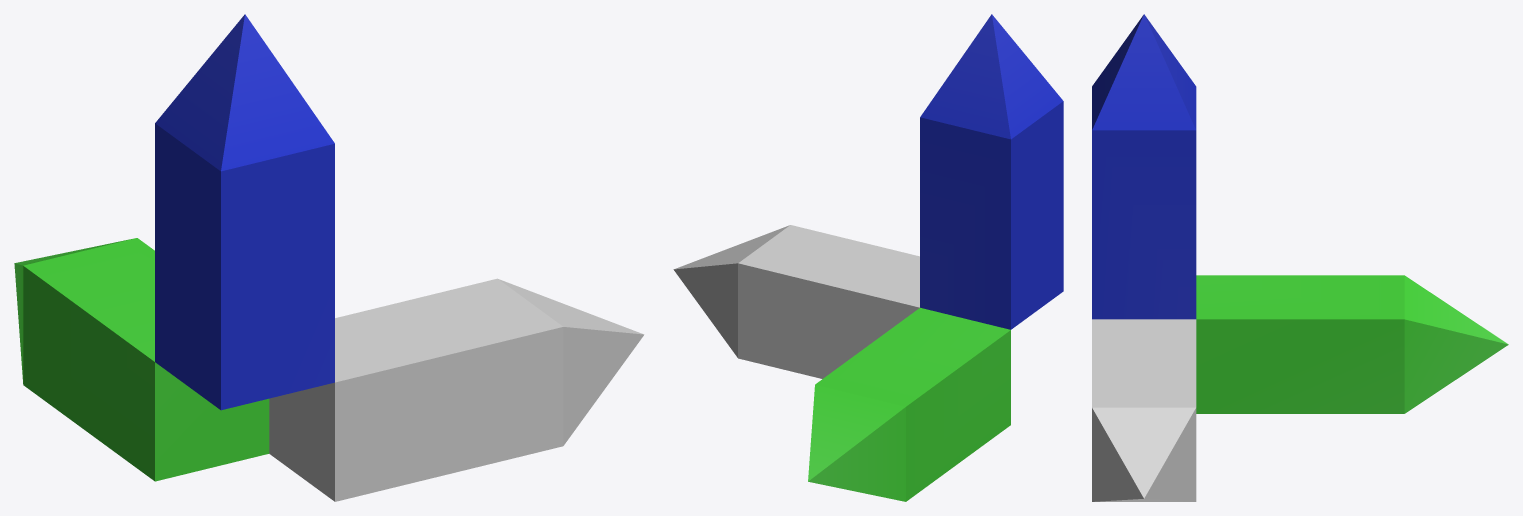
Rendered from gizmo.dae.
The picture shows the model from 3 angles, left to right: view 1: azimuth 30°, elevation 25°; view 2: azimuth 150°, elevation 25°; view 3: azimuth 270°, elevation 25°; orthographic projection. The views are drawn at different scales.
Parts seen in each view (by area): view 1: Cube.002, Cube, Cube.001; view 2: Cube.002, Cube.001, Cube; view 3: Cube.001, Cube.002, Cube.
Boxes of the visible parts, x1,y1,x2,y2 form: Cube.002: (155, 14, 334, 410); Cube: (269, 278, 644, 501); Cube.001: (14, 238, 269, 481); Cube.002: (920, 14, 1063, 329); Cube.001: (808, 307, 1010, 501); Cube: (673, 225, 919, 378); Cube.001: (1196, 275, 1508, 413); Cube.002: (1092, 14, 1196, 319); Cube: (1092, 319, 1196, 501).
Bounding box in the file's own units: 4 × 4 × 4.
